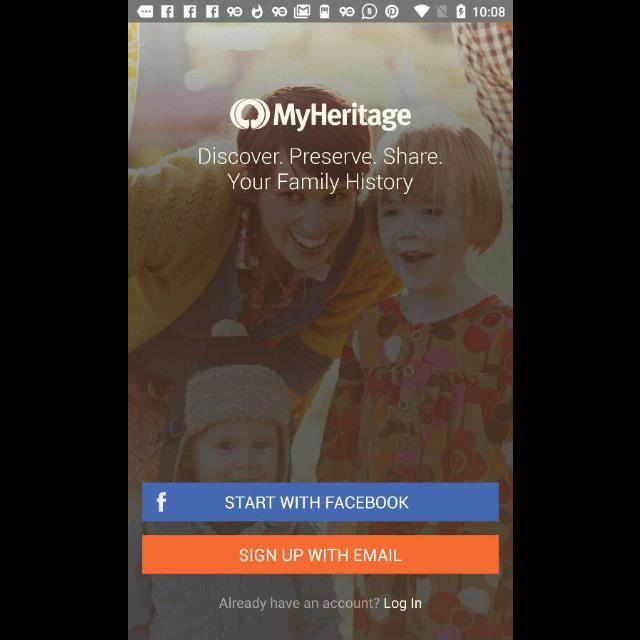backgroundimage: (128, 22, 512, 640)
image: (230, 99, 410, 133)
text: (198, 147, 442, 195), (219, 597, 421, 611)
textbutton: (142, 482, 498, 522), (142, 536, 498, 574)
uppertaskbar: (128, 1, 512, 23)
